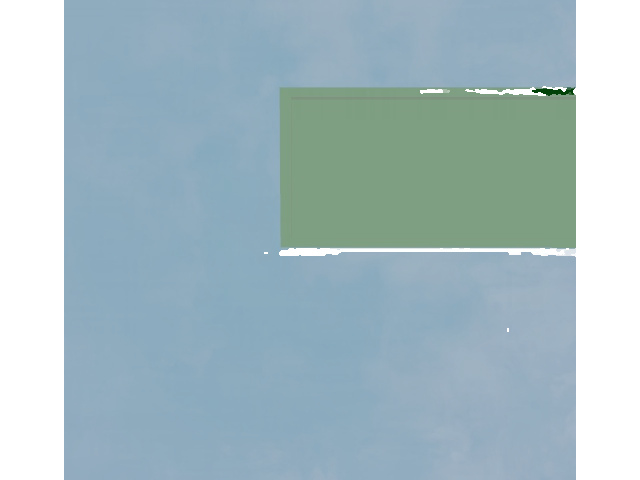container2: (276, 79, 616, 246)
